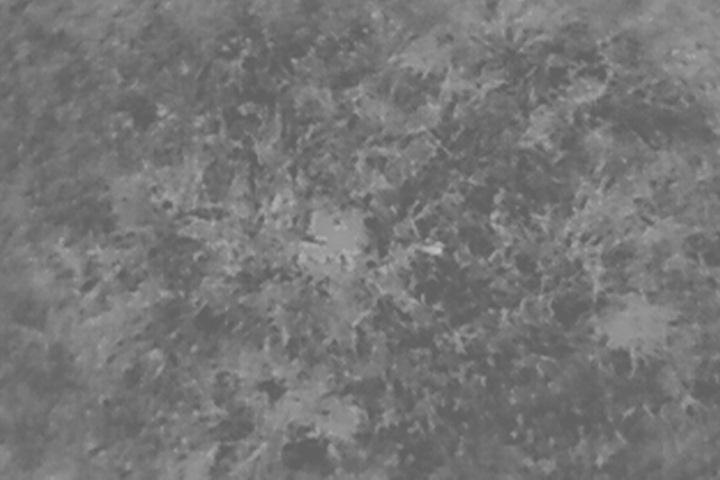landmine: (304, 201, 367, 252)
